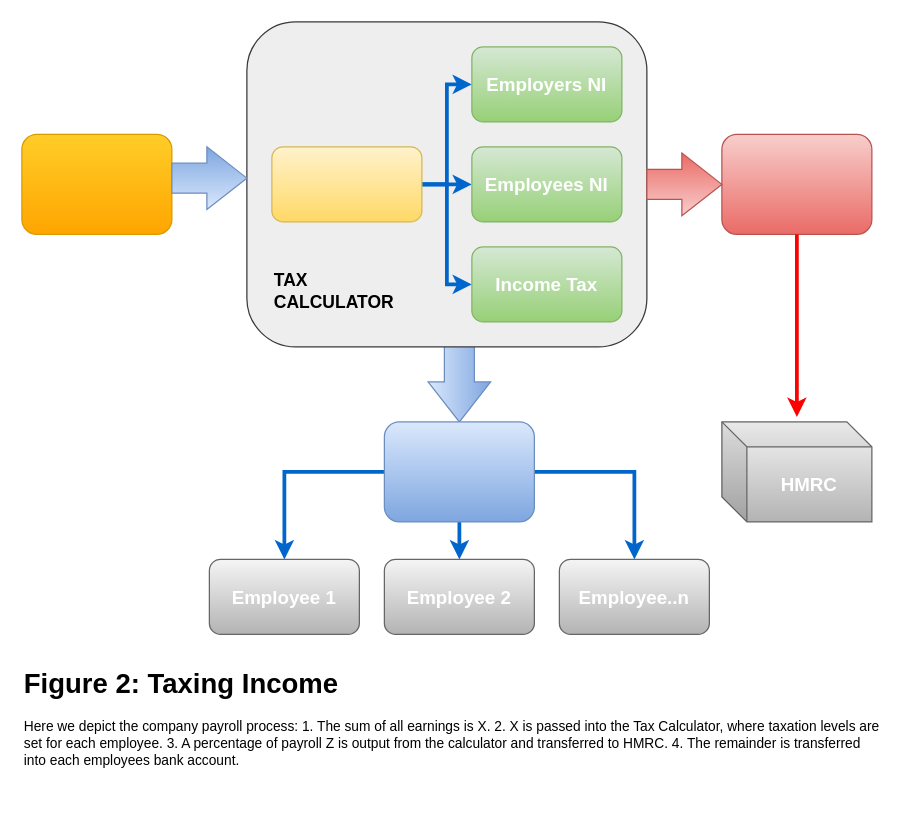
The diagram is 906 pixels wide and 835 high, and some of its shapes have lost their labels. Each missing label, with the centre of its shape:
"PAYE TAX RATES" belongs at [346,184].
"X EMPLOYEE INCOME" belongs at [96,183].
"Y WAGES" belongs at [458,471].
"Z TAX % (X-Y)/X" belongs at [796,183].
